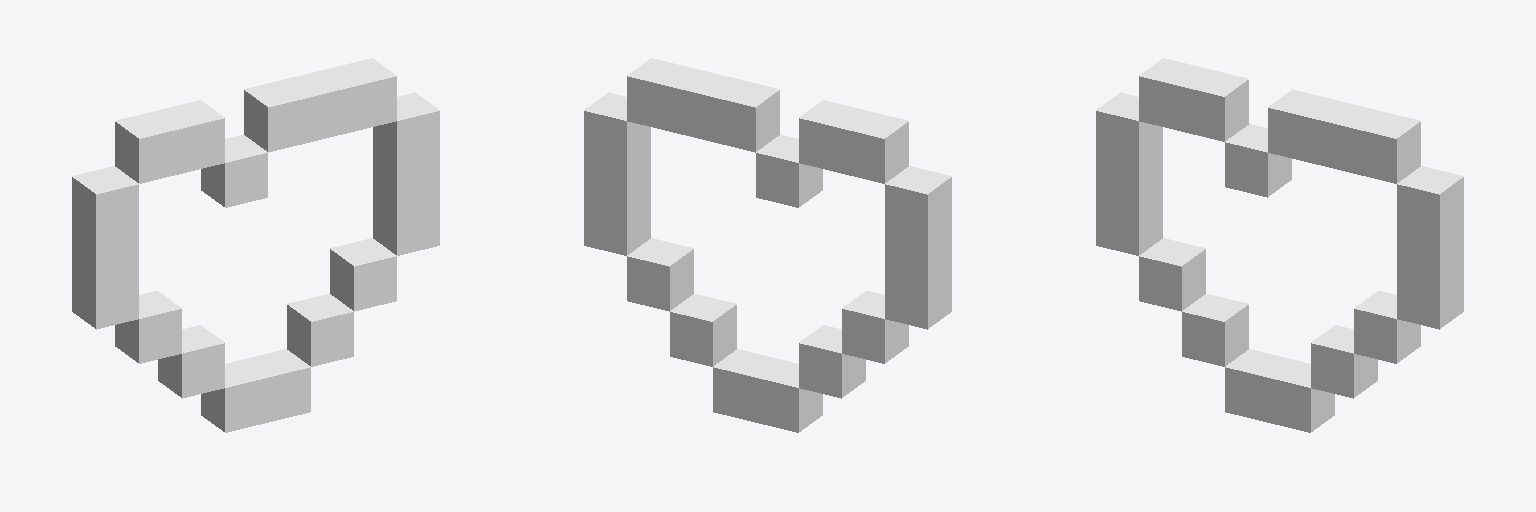
File: Heart_empty.obj
The picture shows the model from 3 angles: view 1: azimuth 30°, elevation 25°; view 2: azimuth 150°, elevation 25°; view 3: azimuth 330°, elevation 25°; orthographic projection.
Bounding box in the file's own units: 8 × 7 × 1.